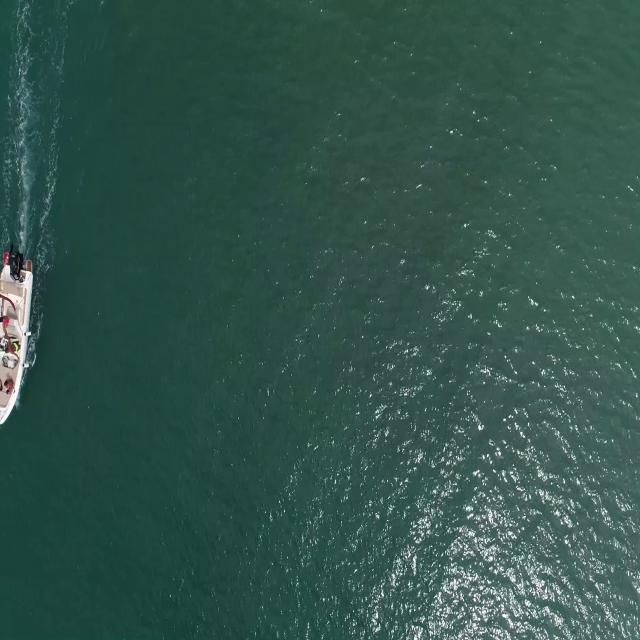boat: (0, 264, 34, 436)
life_buoy: (2, 250, 11, 264)
person: (6, 336, 22, 358), (1, 312, 9, 336), (6, 377, 16, 395)
